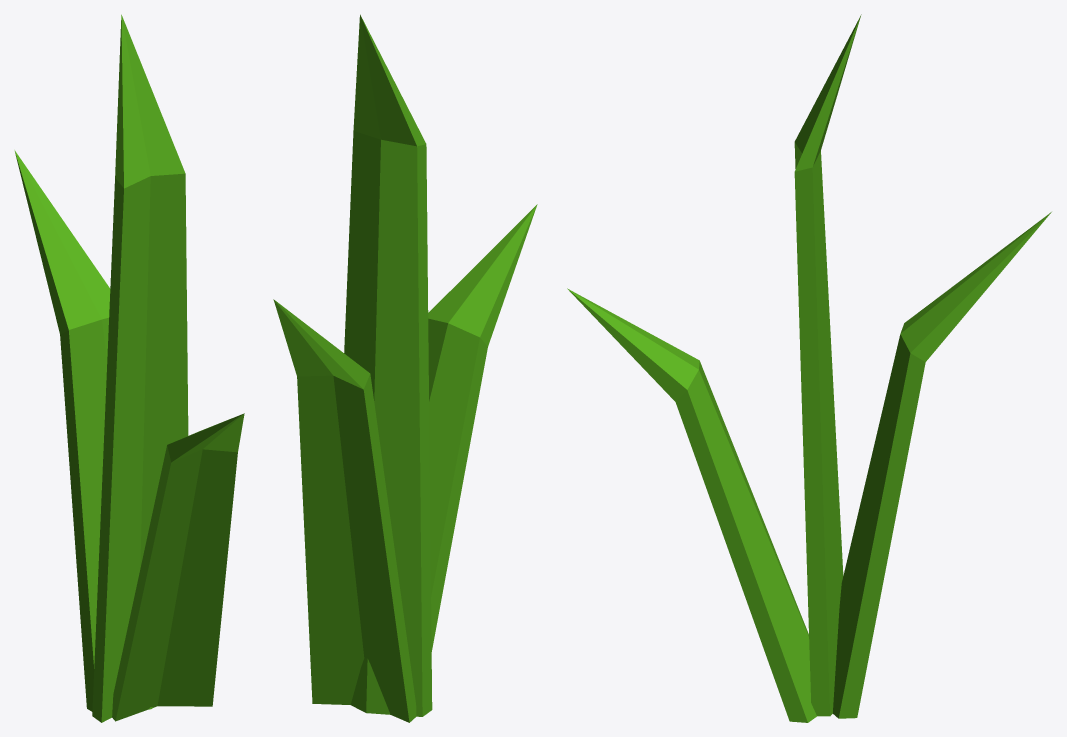
The model's file is Grass_g_02.fbx.
3 renders of one model, left to right at view 1: azimuth 30°, elevation 25°; view 2: azimuth 150°, elevation 25°; view 3: azimuth 270°, elevation 25°, orthographic. The views are drawn at different scales.
Parts seen in each view (by area): view 1: Grass_g_02_LOD0; view 2: Grass_g_02_LOD0; view 3: Grass_g_02_LOD0.
Part boxes in pixels (x1,y1,x2,y2): Grass_g_02_LOD0: (14,14,244,722); Grass_g_02_LOD0: (273,14,537,722); Grass_g_02_LOD0: (567,14,1051,722).
Size of what is drawn, in the model's own units: 2.88 by 18.2 by 11.78.
